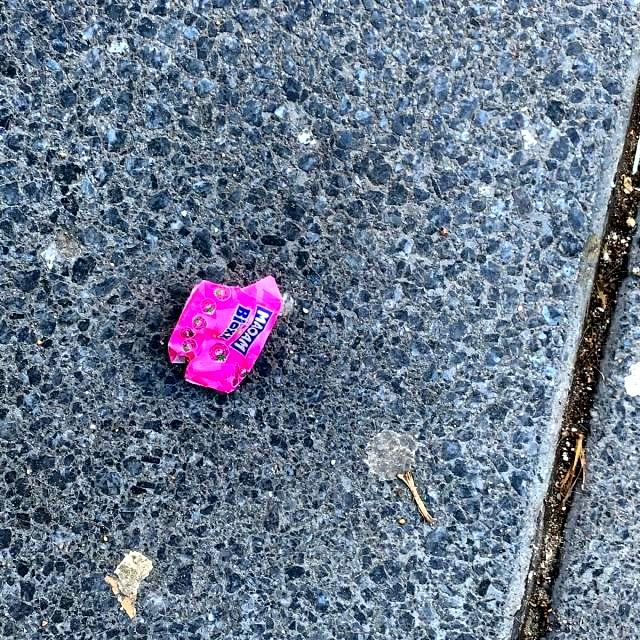Plastic: (166, 273, 284, 395)
